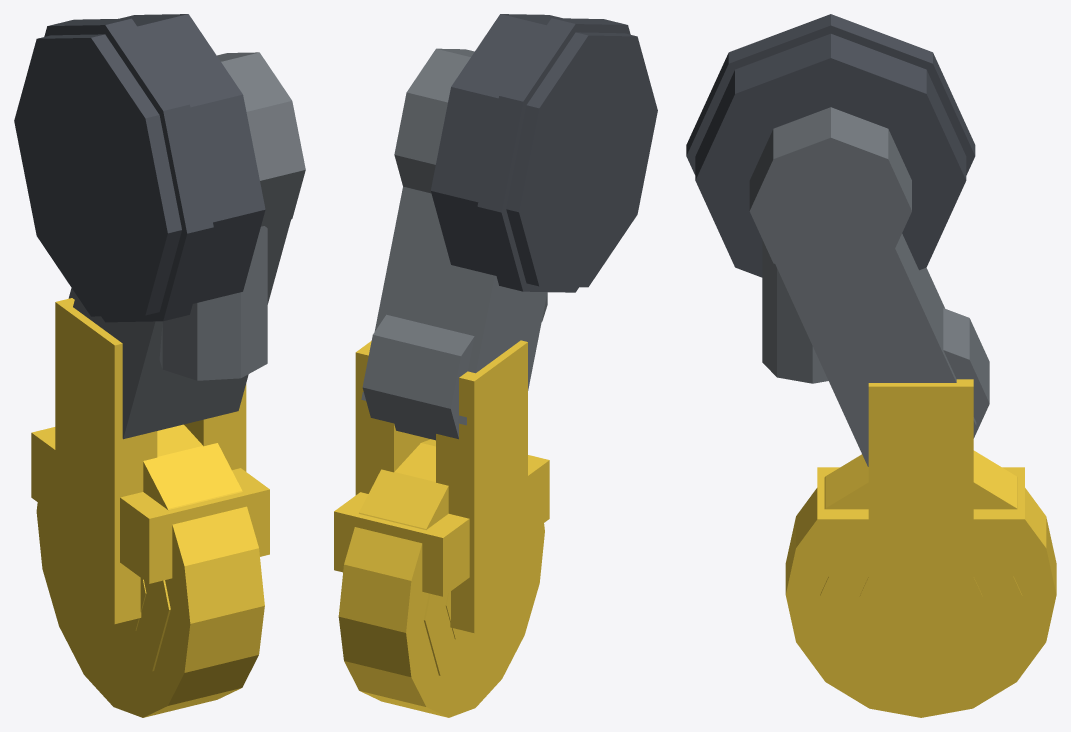
The model's file is leg_crawler.glb.
3 renders of one model, left to right at view 1: azimuth 30°, elevation 25°; view 2: azimuth 150°, elevation 25°; view 3: azimuth 270°, elevation 25°, orthographic. The views are drawn at different scales.
Visible parts, largest first — view 1: Crawler_Part3_AxleForkWheel, Crawler_Part1_PlanetaryGearbox, Crawler_Part2_SuspensionArm; view 2: Crawler_Part3_AxleForkWheel, Crawler_Part1_PlanetaryGearbox, Crawler_Part2_SuspensionArm; view 3: Crawler_Part3_AxleForkWheel, Crawler_Part2_SuspensionArm, Crawler_Part1_PlanetaryGearbox.
Boxes of the visible parts, x1,y1,x2,y2 form: Crawler_Part3_AxleForkWheel: (31, 298, 269, 717); Crawler_Part1_PlanetaryGearbox: (14, 14, 265, 322); Crawler_Part2_SuspensionArm: (68, 52, 305, 439); Crawler_Part3_AxleForkWheel: (334, 340, 549, 717); Crawler_Part1_PlanetaryGearbox: (430, 14, 657, 292); Crawler_Part2_SuspensionArm: (361, 48, 547, 440); Crawler_Part3_AxleForkWheel: (785, 379, 1056, 717); Crawler_Part2_SuspensionArm: (749, 107, 989, 466); Crawler_Part1_PlanetaryGearbox: (686, 14, 975, 277).
Bounding box in the file's own units: 0.995 × 3.95 × 2.05.
